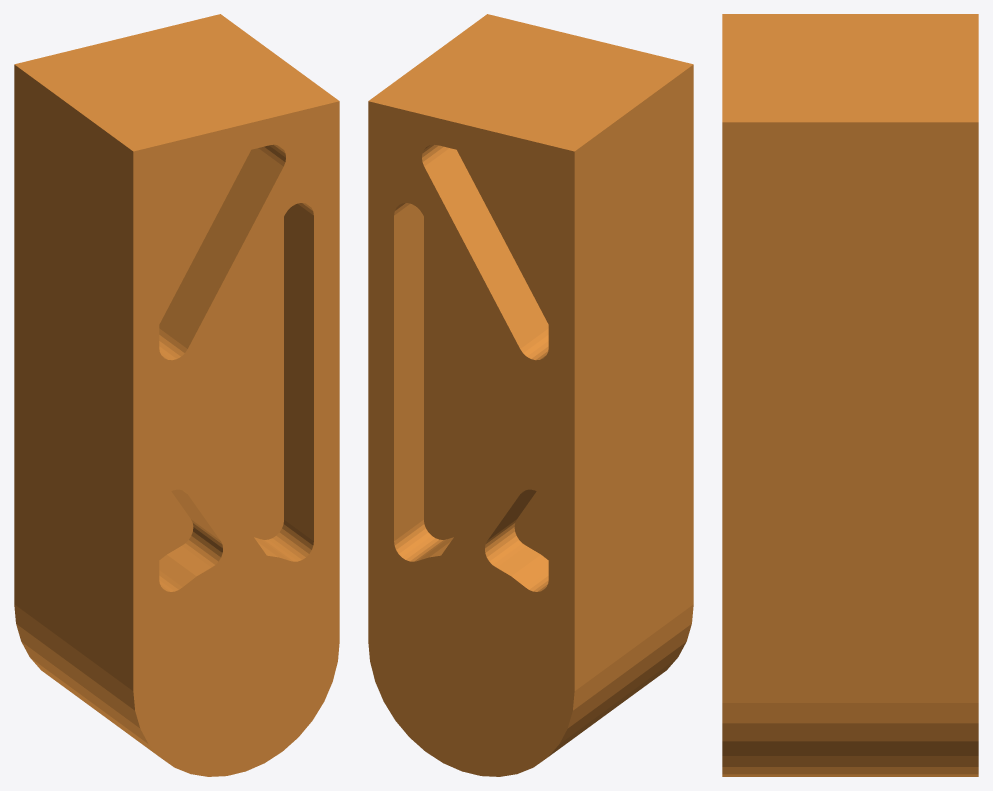
The model's file is wrist.dae.
The picture shows the model from 3 angles, left to right: view 1: azimuth 30°, elevation 25°; view 2: azimuth 150°, elevation 25°; view 3: azimuth 270°, elevation 25°; orthographic projection. The views are drawn at different scales.
Parts seen in each view (by area): view 1: Wrist; view 2: Wrist; view 3: Wrist.
Part boxes in pixels (x1=…): Wrist: x1=14, y1=14, x2=339, y2=776; Wrist: x1=368, y1=14, x2=693, y2=776; Wrist: x1=722, y1=14, x2=978, y2=776.
Bounding box in the file's own units: 0.04 × 0.04 × 0.1199.
